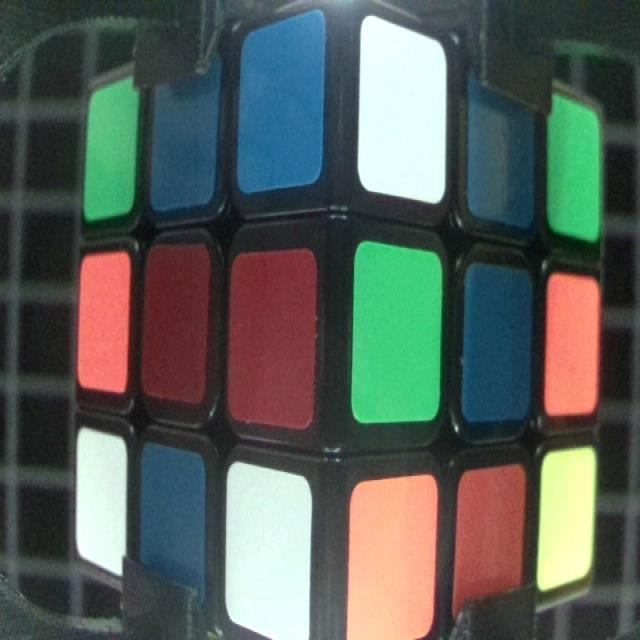b: (242, 36, 323, 184), (468, 74, 534, 222), (142, 445, 205, 599), (465, 268, 527, 419), (157, 76, 216, 206)
g: (356, 254, 436, 418), (548, 99, 598, 235), (87, 88, 134, 218)
o: (351, 483, 433, 640), (459, 470, 522, 618), (78, 256, 130, 386), (548, 276, 595, 416)
r: (231, 257, 314, 422), (144, 245, 207, 396)
w: (361, 30, 445, 192), (230, 468, 308, 638), (76, 433, 122, 571)
y: (542, 456, 590, 581)
